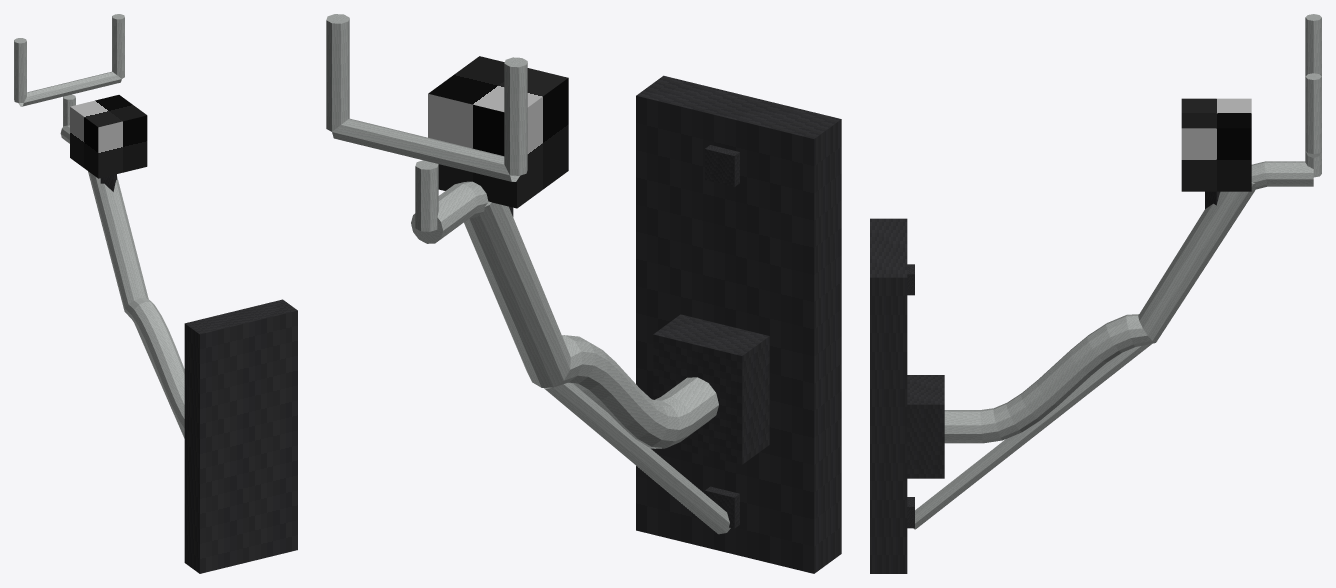
The model's file is arm_1_straight_flood_up.obj.
3 renders of one model, left to right at view 1: azimuth 30°, elevation 25°; view 2: azimuth 150°, elevation 25°; view 3: azimuth 270°, elevation 25°, orthographic. The views are drawn at different scales.
Parts seen in each view (by area): view 1: pole_light_mount_1_straight_flood_up; view 2: pole_light_mount_1_straight_flood_up; view 3: pole_light_mount_1_straight_flood_up.
Boxes of the visible parts, x1,y1,x2,y2 form: pole_light_mount_1_straight_flood_up: (14,14,297,573); pole_light_mount_1_straight_flood_up: (326,14,841,573); pole_light_mount_1_straight_flood_up: (870,14,1321,573).
Size of the model in its own units: 0.419 by 1.47 by 1.21.
